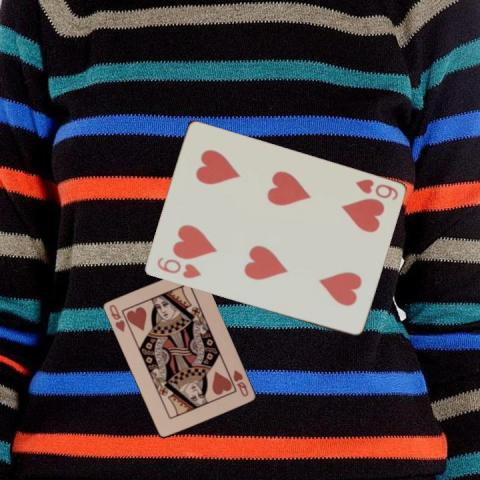6h: (153, 254, 203, 280), (352, 176, 399, 202)
Qh: (106, 301, 126, 334), (230, 367, 249, 398)
